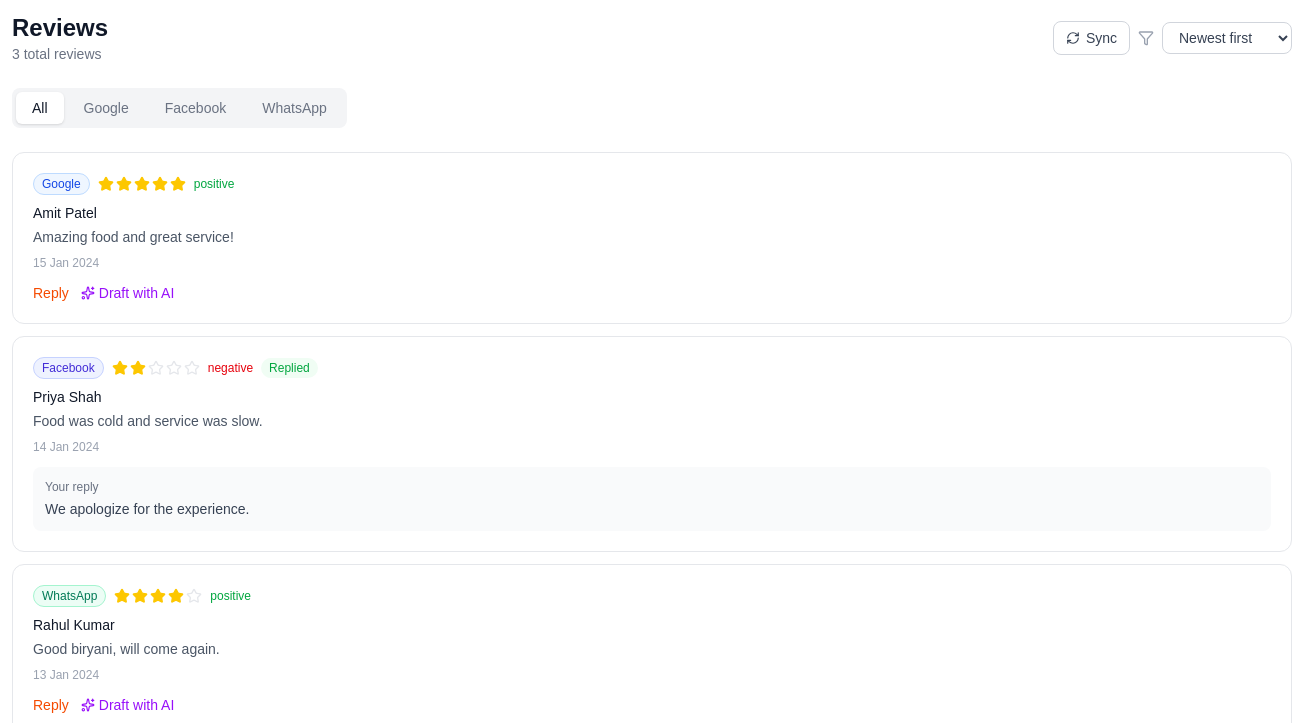
ReviewsPage › opens reply form on Reply button click
Check: the text "Amit Patel" is shown, box [33, 205, 97, 221]
Click the button "Reply" below "15 Jan 2024". click: (51, 293)
box: [33, 283, 69, 303]
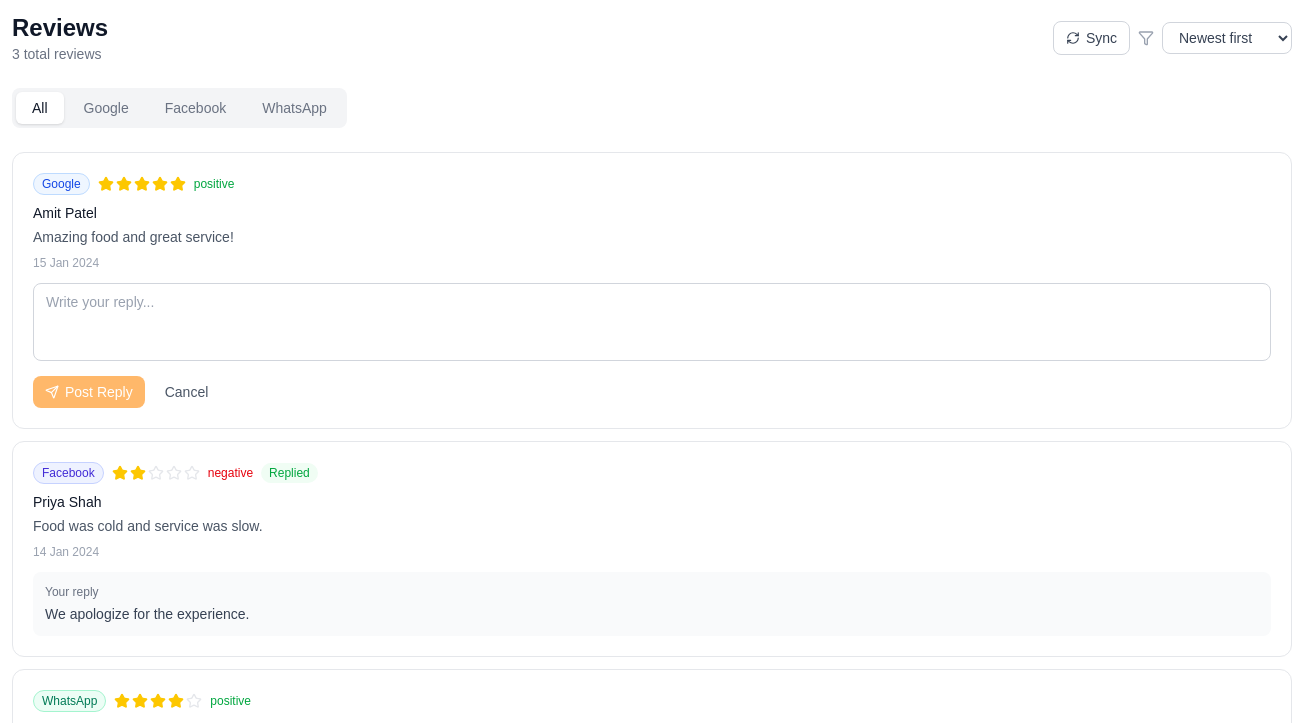
Check: the text box with placeholder "Write your reply..." is shown, box [33, 283, 1271, 361]
Check: the button "Post Reply" is shown, box [33, 376, 145, 408]
